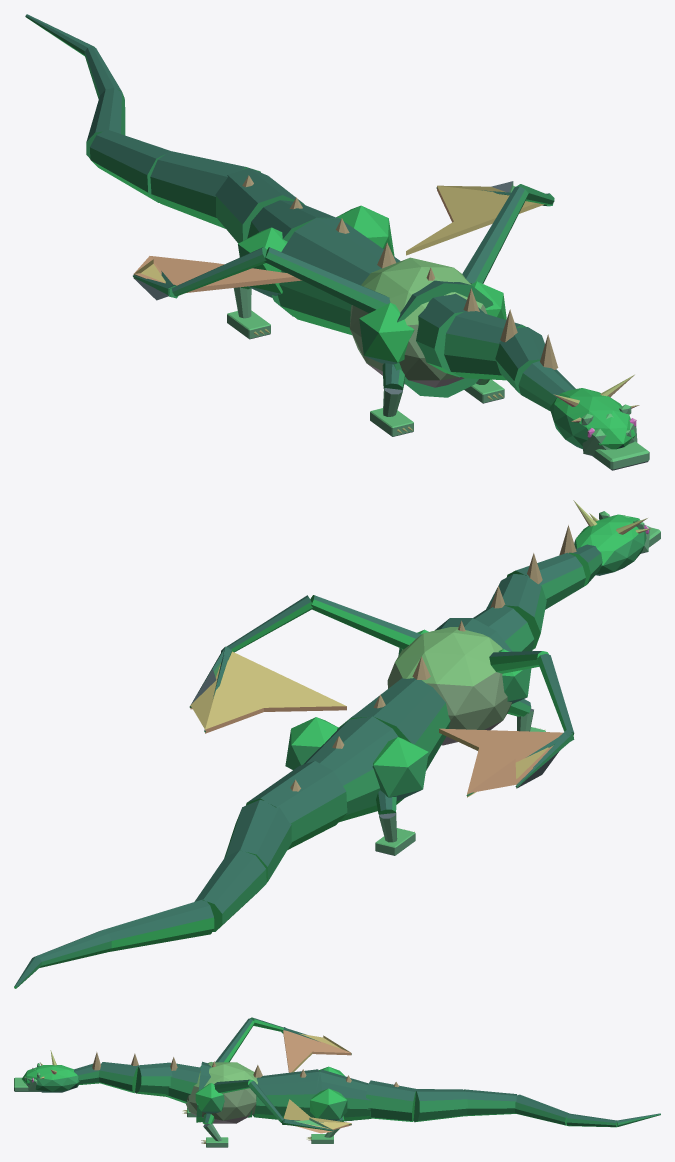
Rendered from creature_dragon_stalk_a_v01.glb.
3 views of the same model, one above another, from view 1: azimuth 30°, elevation 25°; view 2: azimuth 150°, elevation 25°; view 3: azimuth 270°, elevation 25° (orthographic). The views are drawn at different scales.
Parts seen in each view (by area): view 1: GEO_creature_dragon_stalk_a_v01; view 2: GEO_creature_dragon_stalk_a_v01; view 3: GEO_creature_dragon_stalk_a_v01.
Part boxes in pixels (bbox=[...]): GEO_creature_dragon_stalk_a_v01: bbox=[25, 14, 649, 470]; GEO_creature_dragon_stalk_a_v01: bbox=[14, 500, 660, 988]; GEO_creature_dragon_stalk_a_v01: bbox=[14, 1017, 660, 1147].
Bounding box in the file's own units: 13.79 × 5.63 × 39.99.
